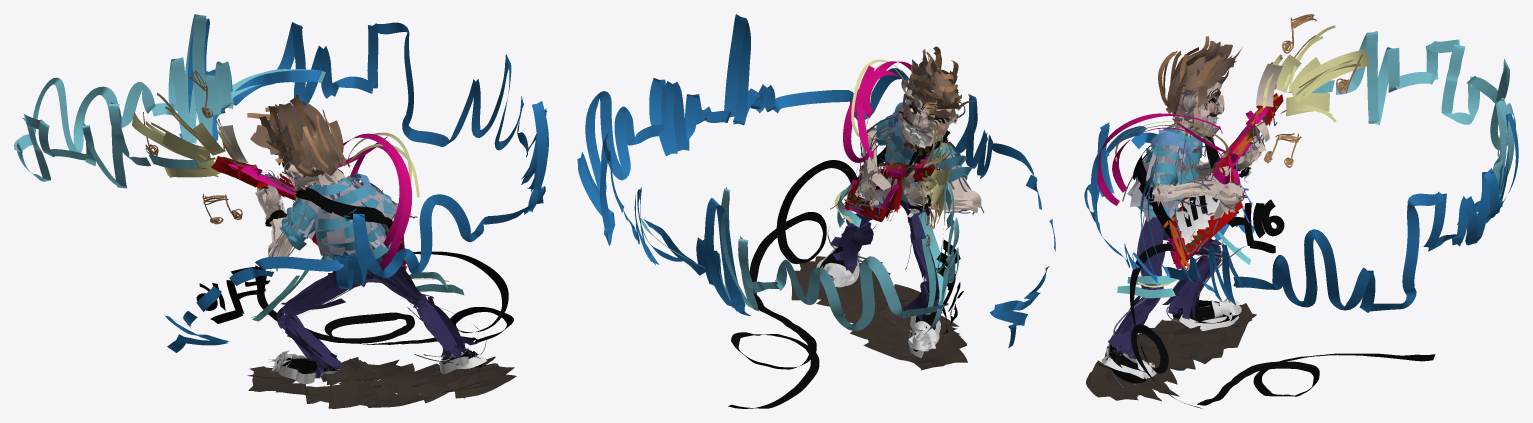
Rendered from synths_and_sensibilities.glb.
The picture shows the model from 3 angles, left to right: view 1: azimuth 30°, elevation 25°; view 2: azimuth 150°, elevation 25°; view 3: azimuth 270°, elevation 25°; orthographic projection. The views are drawn at different scales.
Visible parts, largest first — view 1: All Plasma, All Paper, All Marker, All Taffy, All Light, All Streamers, All Flat, All Velvet Ink; view 2: All Plasma, All Paper, All Taffy, All Marker, All Light, All Velvet Ink, All Flat, All Streamers; view 3: All Plasma, All Paper, All Taffy, All Marker, All Light, All Streamers, All Velvet Ink, All Flat.
Boxes of the visible parts, x1=… form: All Plasma: x1=14, y1=14, x2=548, y2=352; All Paper: x1=211, y1=97, x2=486, y2=383; All Marker: x1=228, y1=94, x2=516, y2=408; All Taffy: x1=196, y1=133, x2=513, y2=344; All Light: x1=140, y1=70, x2=449, y2=281; All Streamers: x1=132, y1=112, x2=248, y2=177; All Flat: x1=265, y1=176, x2=403, y2=249; All Velvet Ink: x1=233, y1=104, x2=486, y2=377; All Plasma: x1=577, y1=14, x2=1055, y2=347; All Paper: x1=816, y1=52, x2=981, y2=357; All Taffy: x1=728, y1=61, x2=963, y2=408; All Marker: x1=790, y1=46, x2=974, y2=370; All Light: x1=830, y1=59, x2=951, y2=246; All Velvet Ink: x1=827, y1=67, x2=984, y2=329; All Flat: x1=848, y1=129, x2=950, y2=217; All Streamers: x1=923, y1=127, x2=950, y2=224; All Plasma: x1=1084, y1=31, x2=1518, y2=312; All Paper: x1=1101, y1=41, x2=1283, y2=383; All Taffy: x1=1097, y1=100, x2=1435, y2=408; All Marker: x1=1086, y1=36, x2=1273, y2=401; All Light: x1=1115, y1=14, x2=1362, y2=287; All Streamers: x1=1256, y1=49, x2=1370, y2=116; All Velvet Ink: x1=1108, y1=44, x2=1277, y2=387; All Flat: x1=1133, y1=114, x2=1266, y2=250.
Size of the model in its own units: 2962 by 1981 by 2645.
